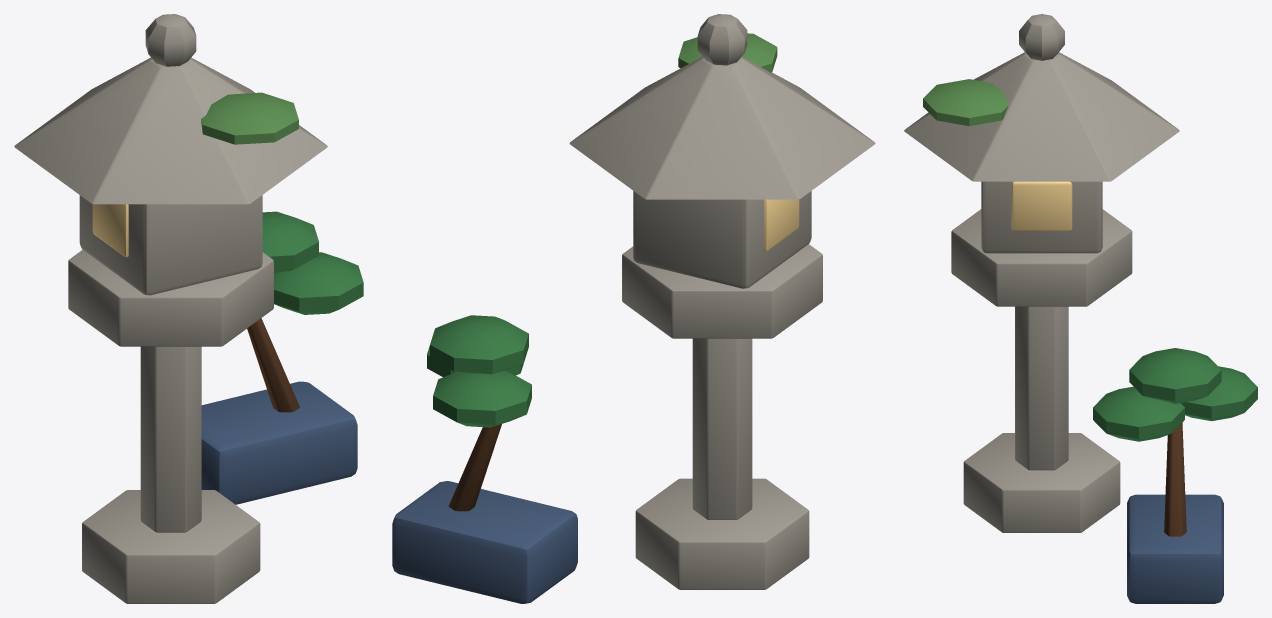
File: HeroZen.fbx
The picture shows the model from 3 angles, left to right: view 1: azimuth 30°, elevation 25°; view 2: azimuth 150°, elevation 25°; view 3: azimuth 270°, elevation 25°; orthographic projection. The views are drawn at different scales.
Parts seen in each view (by area): view 1: HeroZen; view 2: HeroZen; view 3: HeroZen.
Boxes of the visible parts, x1=… form: HeroZen: x1=14, y1=14, x2=363, y2=603; HeroZen: x1=392, y1=14, x2=875, y2=603; HeroZen: x1=904, y1=14, x2=1257, y2=603.
Size of the model in its own units: 604 by 890 by 583.
